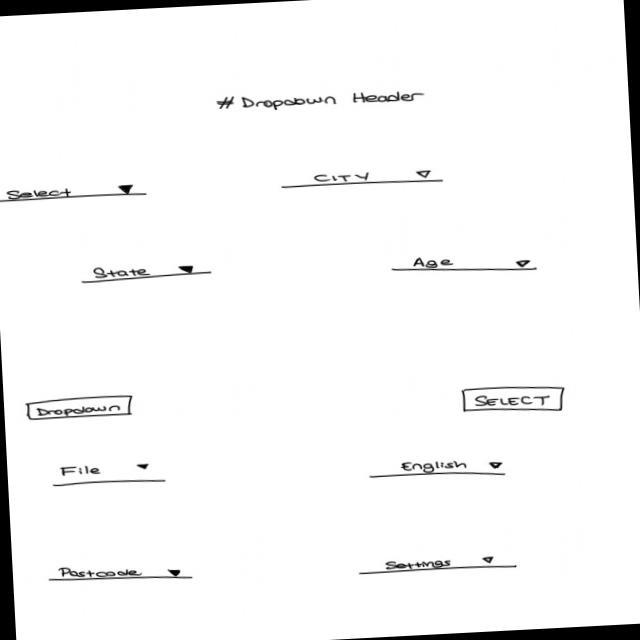button: (460, 381, 567, 417), (23, 393, 136, 423)
label: (212, 83, 426, 115)
select: (390, 249, 540, 280), (45, 559, 194, 589), (356, 552, 519, 578), (367, 455, 508, 484), (278, 166, 446, 190), (0, 181, 150, 205), (49, 460, 168, 490), (79, 260, 214, 286)
